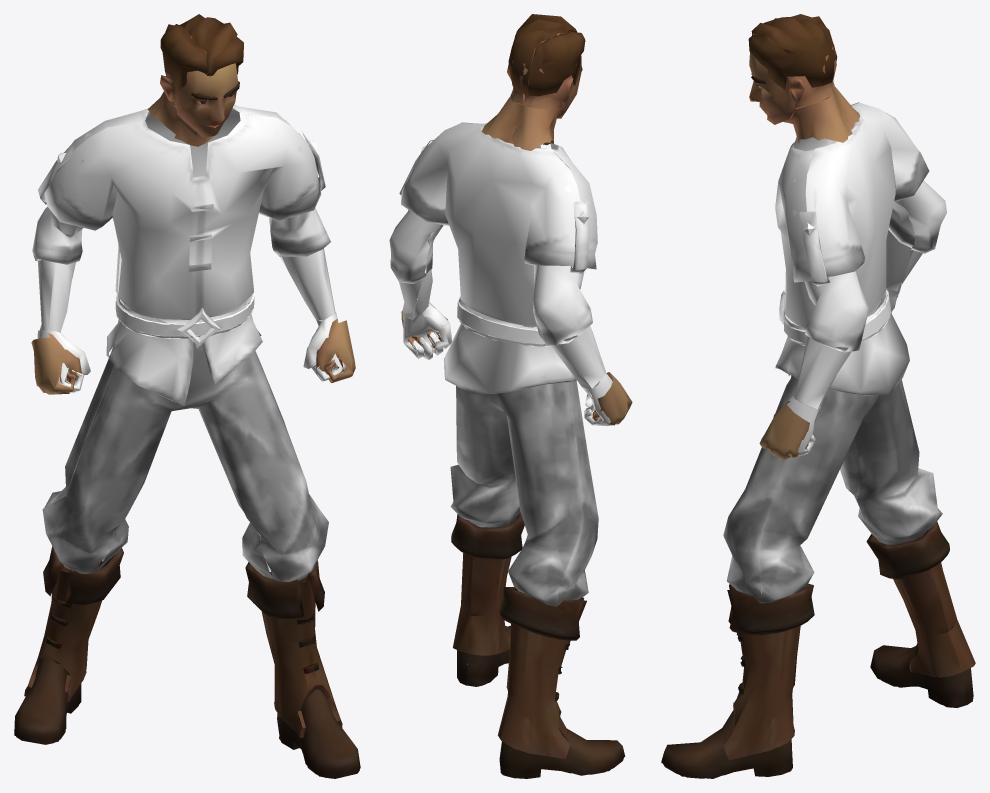
The model's file is npc_noble.glb.
The picture shows the model from 3 angles, left to right: view 1: azimuth 30°, elevation 25°; view 2: azimuth 150°, elevation 25°; view 3: azimuth 270°, elevation 25°; orthographic projection. The views are drawn at different scales.
Visible parts, largest first — view 1: Male_Peasant_Arms_baked; view 2: Male_Peasant_Arms_baked; view 3: Male_Peasant_Arms_baked.
Boxes of the visible parts, x1,y1,x2,y2 form: Male_Peasant_Arms_baked: (14, 14, 360, 778); Male_Peasant_Arms_baked: (389, 14, 632, 778); Male_Peasant_Arms_baked: (661, 14, 975, 778).
Size of the model in its own units: 1.32 by 3.3 by 1.32.
10 materials, 10 textured.
